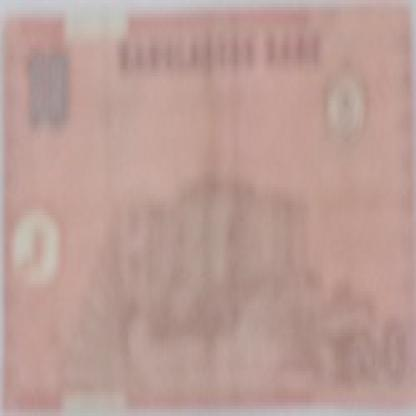Ten Taka: (20, 31, 75, 135), (356, 309, 411, 395)
